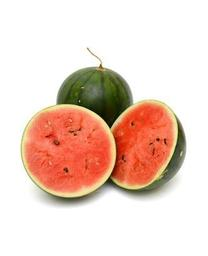watermelon: (19, 99, 189, 201), (55, 66, 135, 141)
